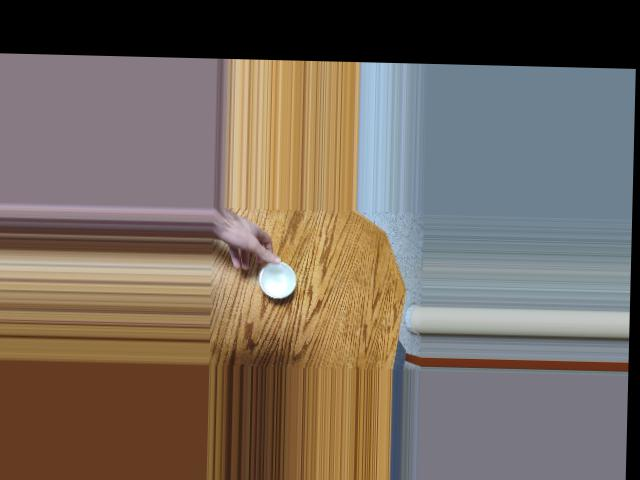cotage: (254, 254, 301, 301)
